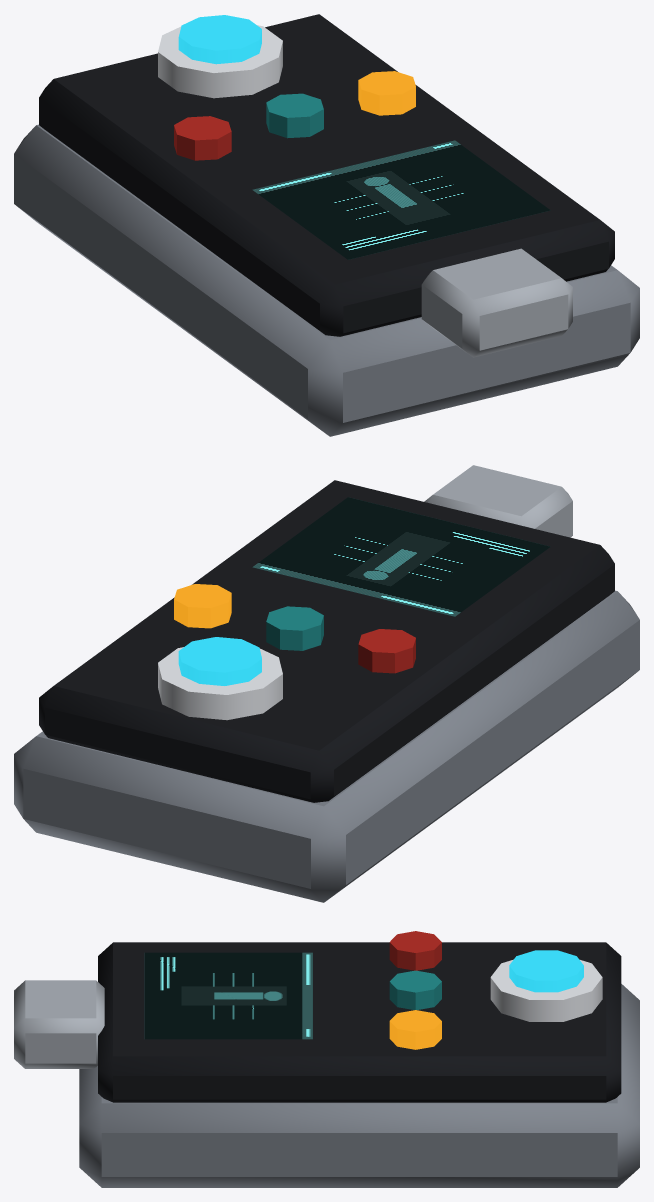
File: medtool_medical_tricorder.glb
The picture shows the model from 3 angles, top to bottom: view 1: azimuth 30°, elevation 25°; view 2: azimuth 150°, elevation 25°; view 3: azimuth 270°, elevation 25°; orthographic projection. The views are drawn at different scales.
Visible parts, largest first — view 1: medtool_medical_tricorder; view 2: medtool_medical_tricorder; view 3: medtool_medical_tricorder.
Boxes of the visible parts, x1,y1,x2,y2 form: medtool_medical_tricorder: (14, 14, 639, 436); medtool_medical_tricorder: (14, 465, 639, 902); medtool_medical_tricorder: (14, 931, 639, 1187).
Bounding box in the file's own units: 0.18 × 0.095 × 0.335.
9 materials, 1 textured.
